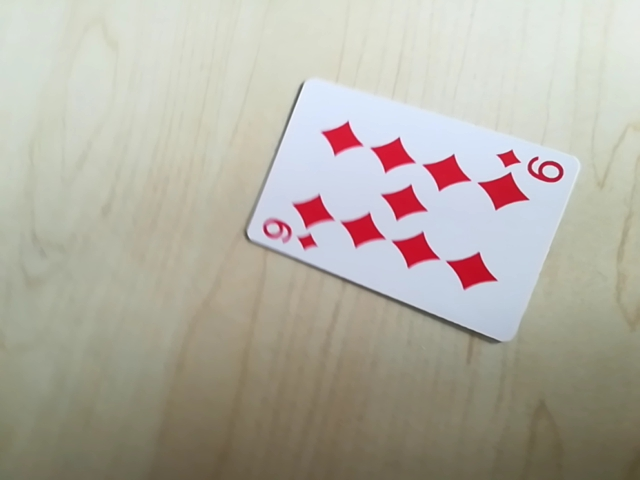fk 9: (490, 145, 571, 182), (255, 220, 323, 254)
